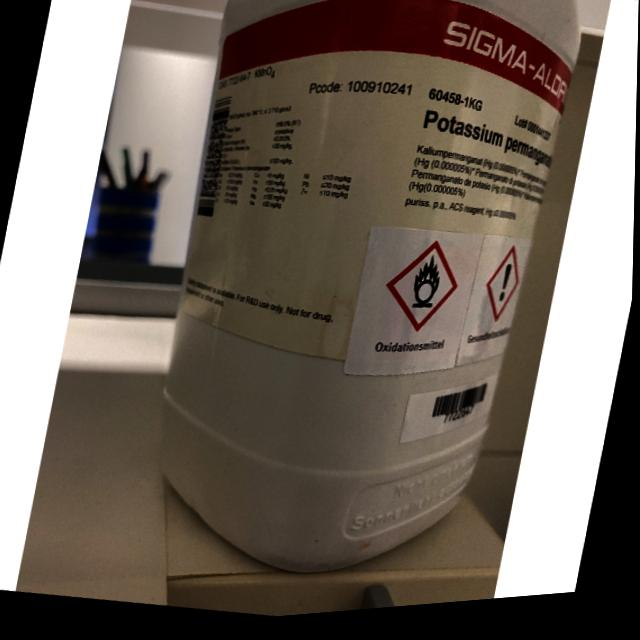health-ozone layer hazard: (481, 249, 527, 331)
oxidising: (379, 238, 467, 347)
